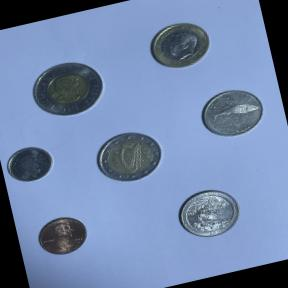1 Euro-B: (139, 9, 224, 80)
2 Euro-B: (87, 122, 171, 192)
Canada-10cent-B: (0, 139, 61, 190)
Canada-2Dollar-B: (22, 53, 112, 126)
Croatia-2Kune-B: (191, 78, 271, 146)
US-1cent-B: (30, 208, 96, 262)
US-25cent-B: (170, 180, 246, 246)
